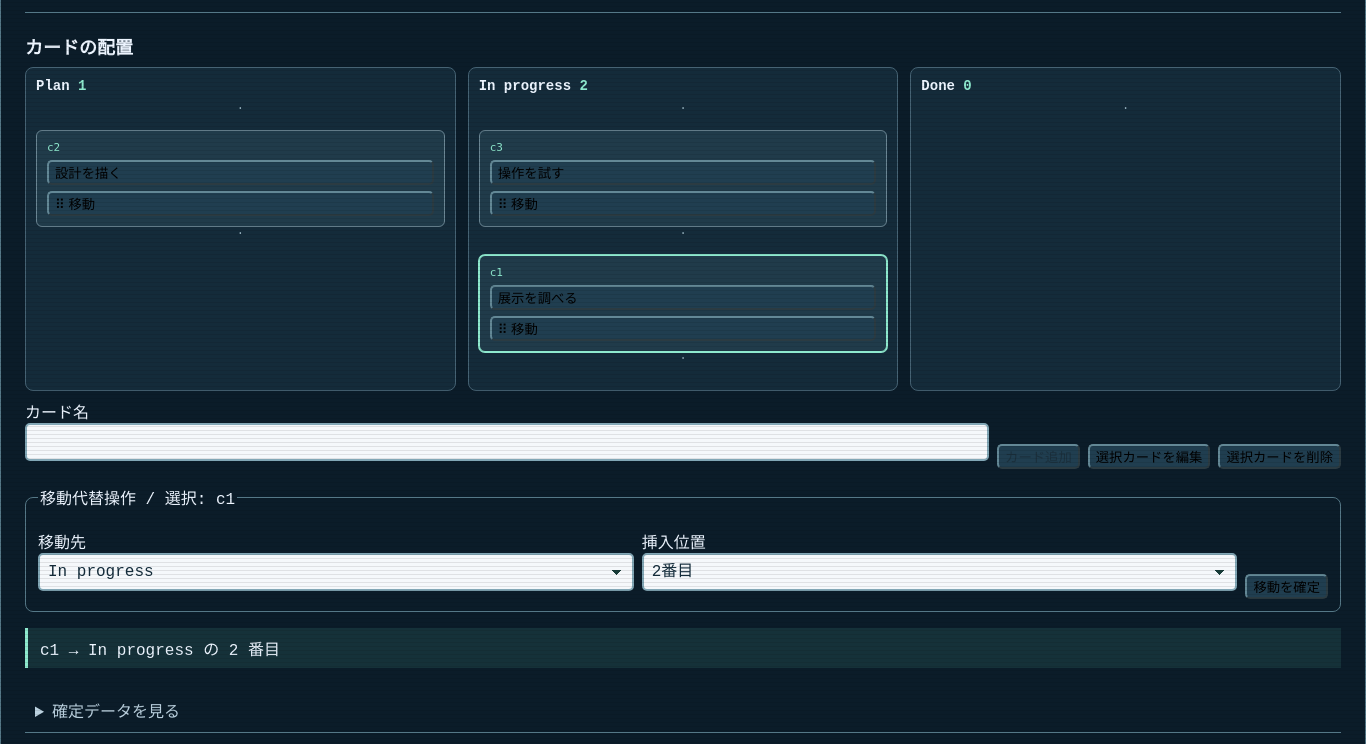
Test: kanban CRUD, reorder then edit, draft cancellation and undo preserve identities
Earlier steps of the test are not shown.
Later steps or results of the test are not shown.
(page scrolled)
Click the button "選択カードを編集": (1149, 457) [1088,444,1210,469]
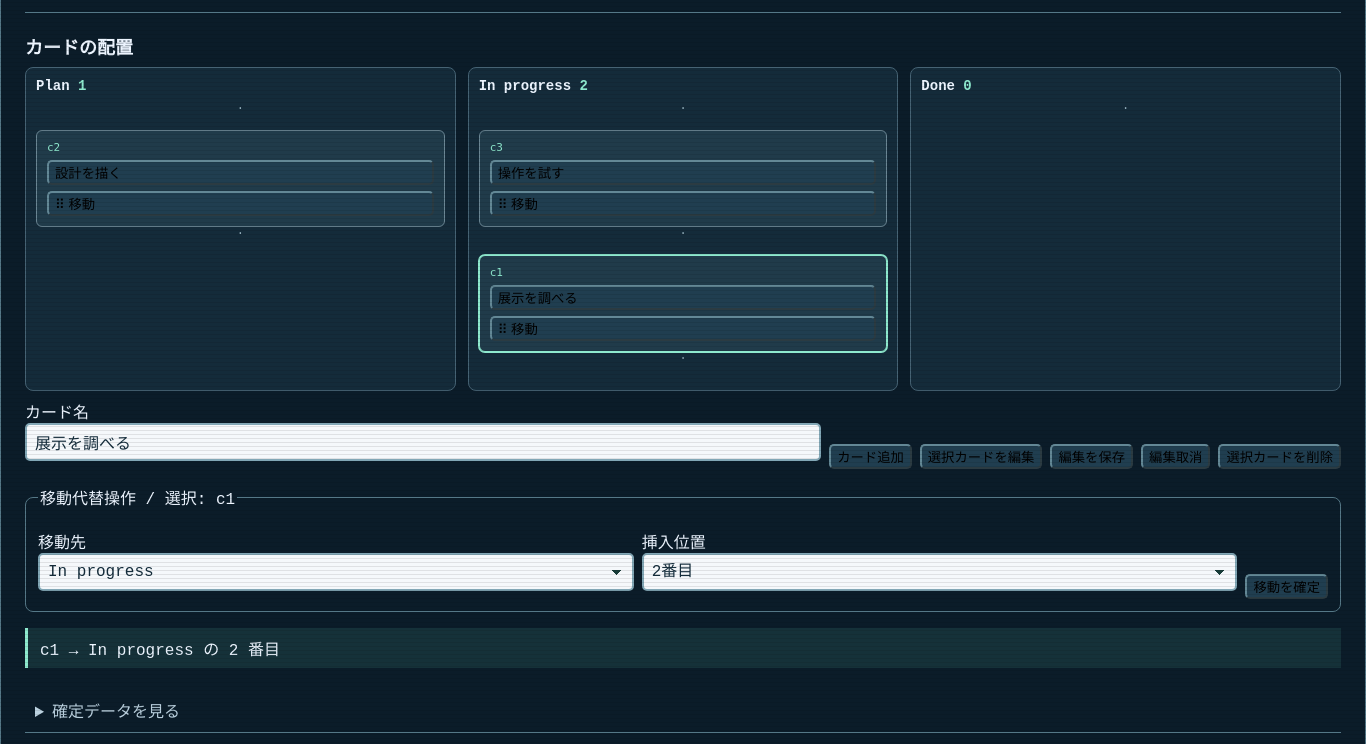
Replace the text in the field labelled "カード名" with "修正版": (423, 442) [25,423,821,461]
Click the button "編集を保存": (1092, 457) [1050,444,1133,469]
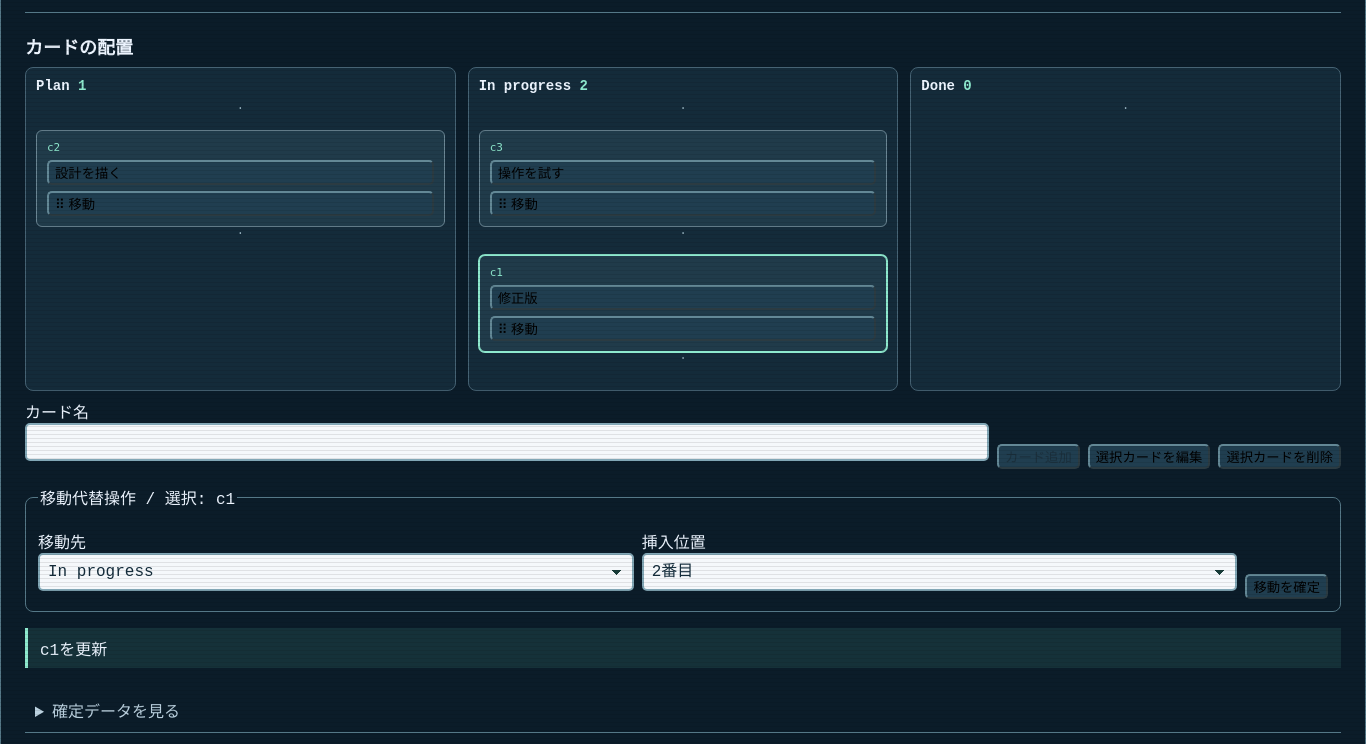
Click the button "選択カードを編集": (1149, 457) [1088,444,1210,469]
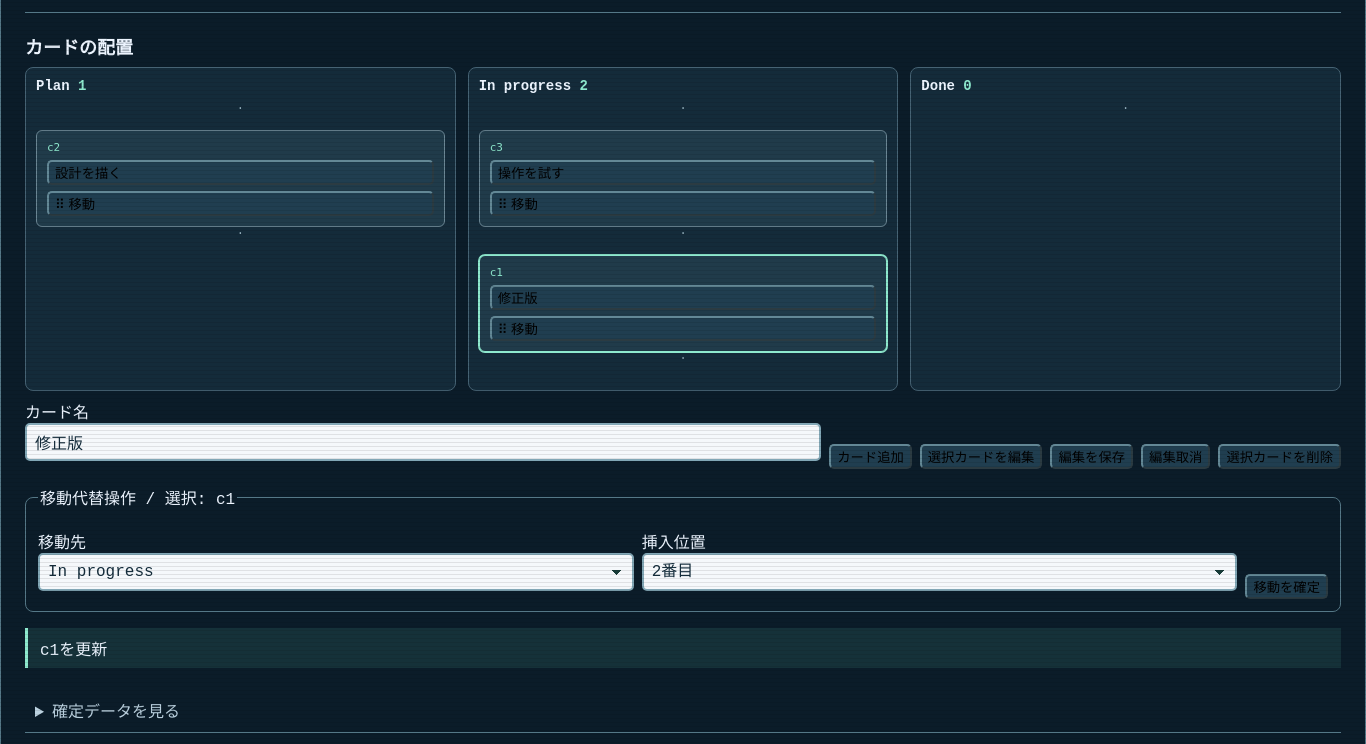
Replace the text in the field labelled "カード名" with "破棄": (423, 442) [25,423,821,461]
Press Escape in the field labelled "カード名", box [25,423,821,461]
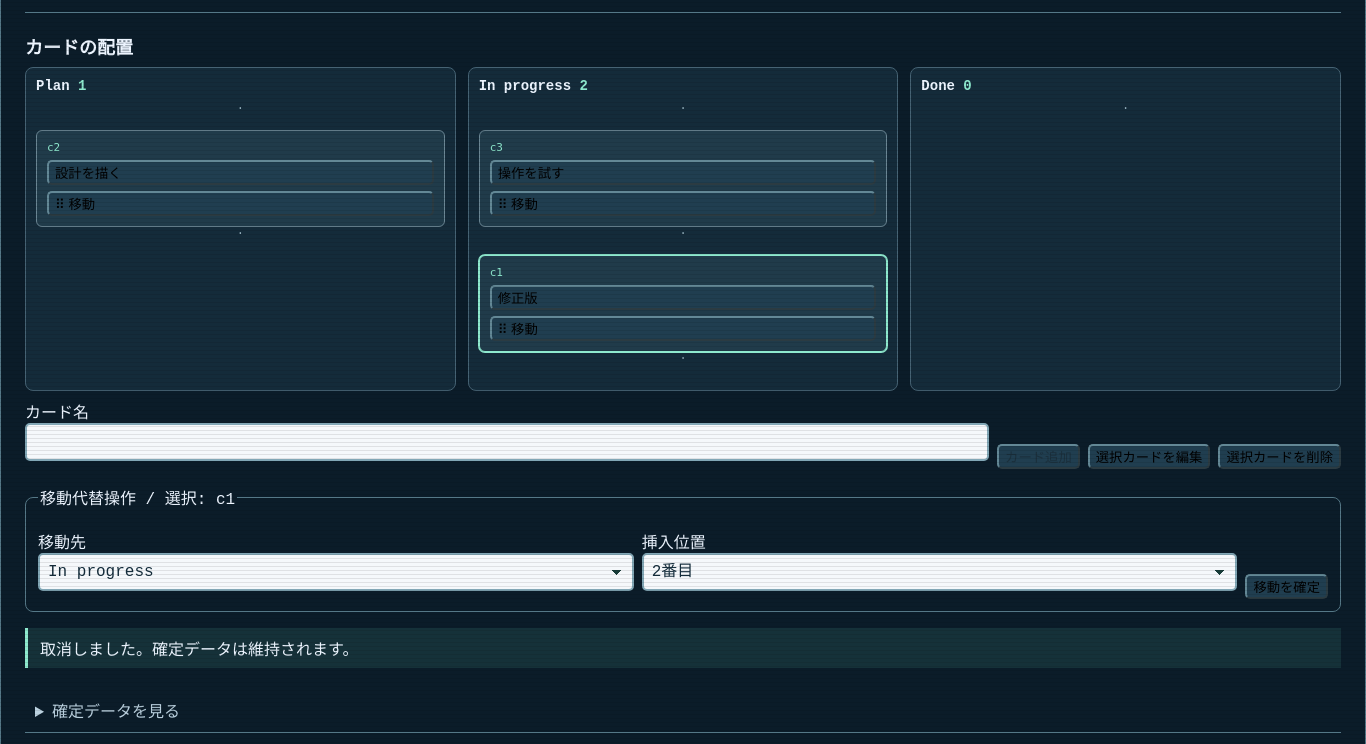
Expected: the button "修正版" is shown, [490,285,876,310]
Click the button "選択カードを削除": (1280, 457) [1218,444,1341,469]
(page scrolled)
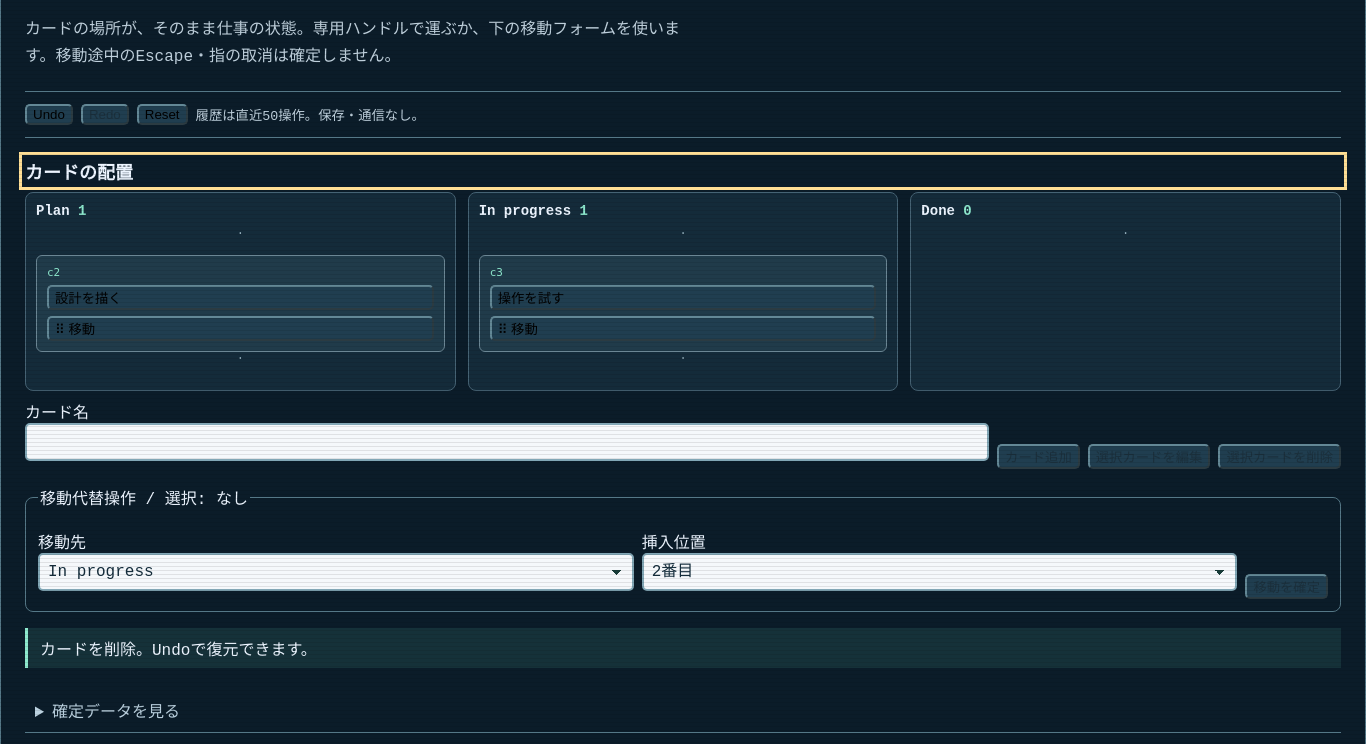
Expected: the text "カードの配置" is shown, [25,164,133,184]
Click the button "Undo": (49, 115) [25,104,73,125]
(page scrolled)
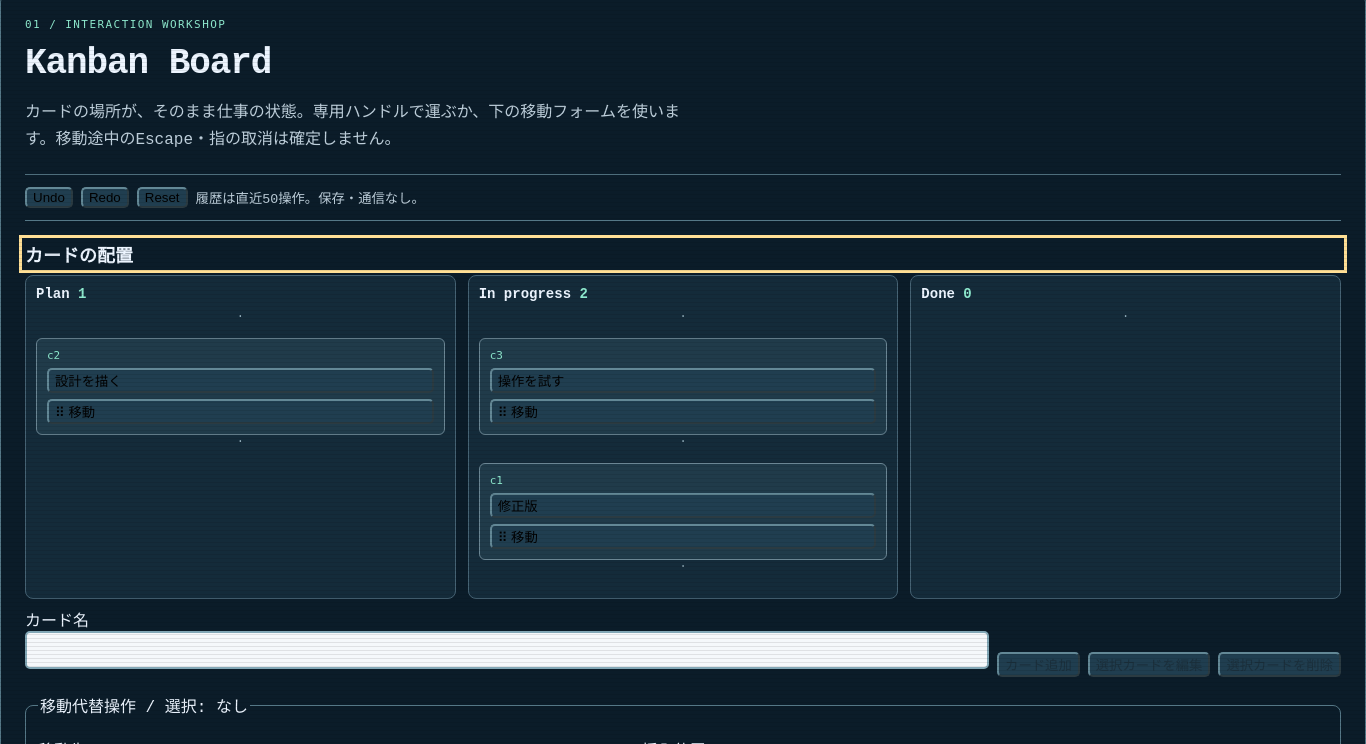
Expected: the button "修正版" is shown, [490,493,876,518]
